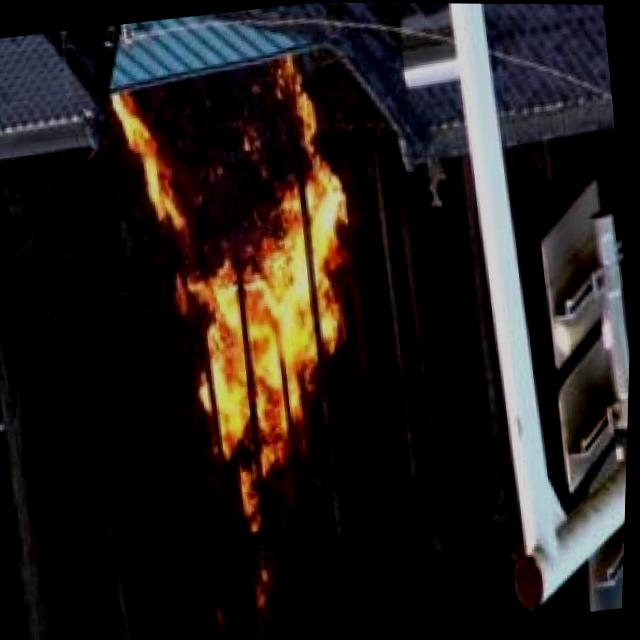Fire: (80, 51, 389, 554)
